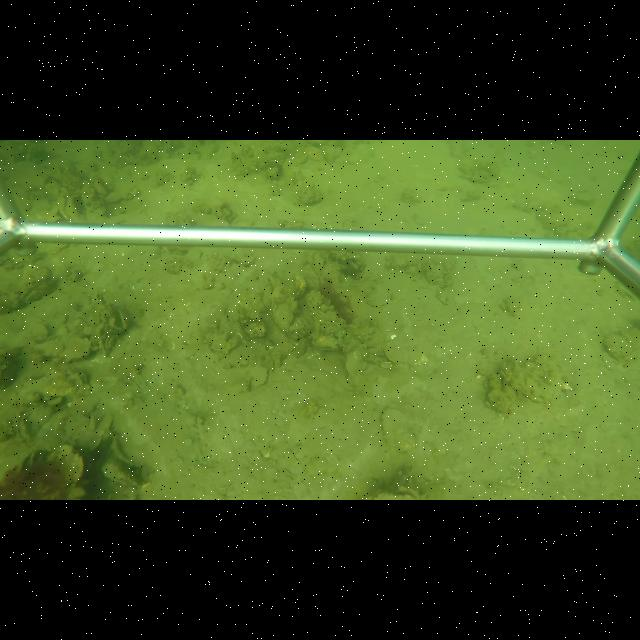Oyster-Closed: (500, 353, 564, 404), (377, 406, 418, 454), (306, 299, 343, 326), (344, 348, 367, 390), (58, 337, 94, 362), (380, 340, 407, 366), (485, 389, 510, 414), (274, 302, 294, 333), (367, 283, 390, 309), (93, 292, 115, 317), (249, 365, 271, 387), (225, 256, 256, 267), (270, 298, 277, 319), (290, 286, 299, 299)
Oyster-Open: (108, 308, 130, 331)
